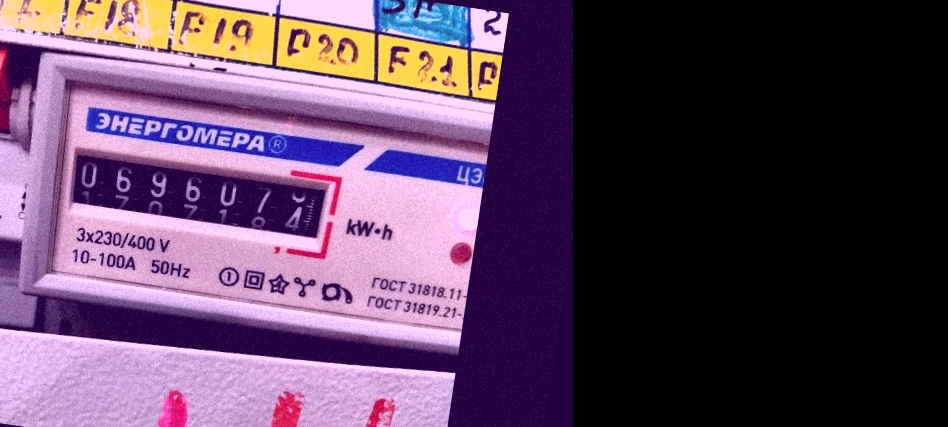0: (75, 157, 100, 190), (216, 177, 239, 209)
4: (280, 202, 303, 233)
6: (180, 172, 204, 206), (111, 163, 134, 194)
7: (251, 181, 273, 215)
9: (146, 168, 170, 199)
screen: (52, 129, 346, 262)
